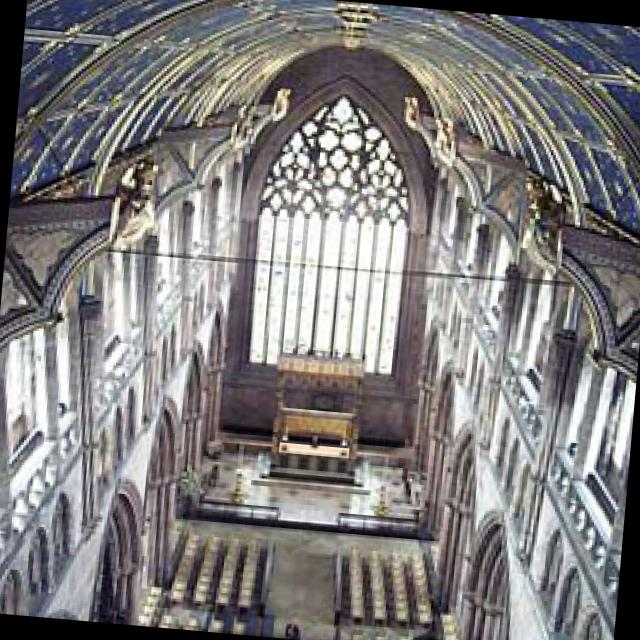2001: (249, 92, 413, 372)
altar: (270, 349, 369, 476)
benches crop: (170, 527, 279, 611), (335, 545, 436, 624)
ceiling beam: (11, 0, 640, 242)
floor -X: (146, 427, 448, 640)
wall clock: (0, 102, 266, 618), (415, 117, 640, 640), (225, 41, 439, 441)
